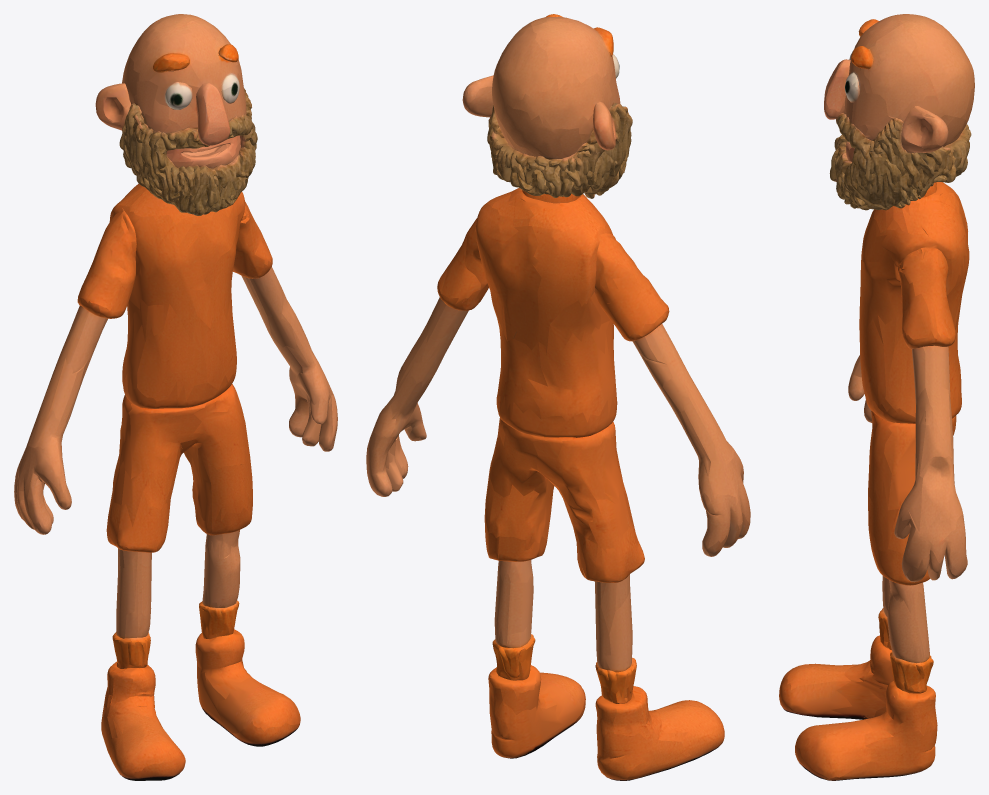
The model's file is A3-clay-tee.glb.
3 views of the same model, side by side, from view 1: azimuth 30°, elevation 25°; view 2: azimuth 150°, elevation 25°; view 3: azimuth 270°, elevation 25° (orthographic). The views are drawn at different scales.
Parts seen in each view (by area): view 1: Mesh_0; view 2: Mesh_0; view 3: Mesh_0.
Part boxes in pixels (x1,y1,x2,y2): Mesh_0: (14,14,337,780); Mesh_0: (366,14,750,780); Mesh_0: (779,14,974,780).
Bounding box in the file's own units: 0.9411 × 1.9 × 0.4615.
Materials: 1 (1 with a texture image).
